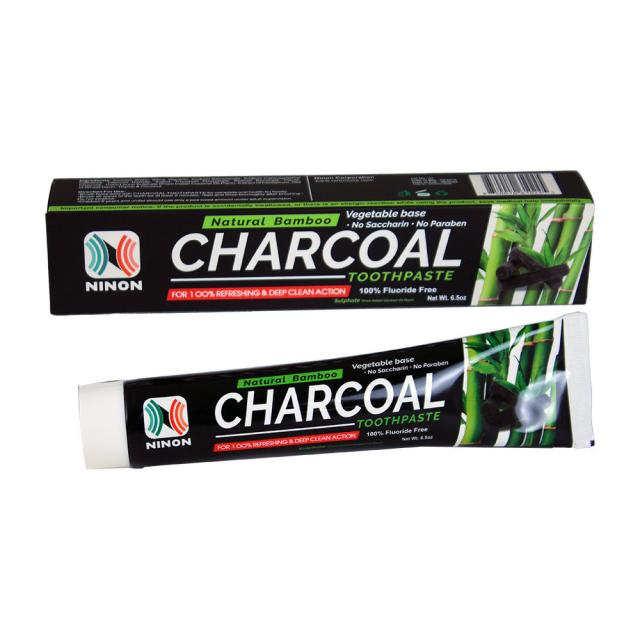toothpaste: (67, 336, 640, 509), (41, 169, 598, 317)
